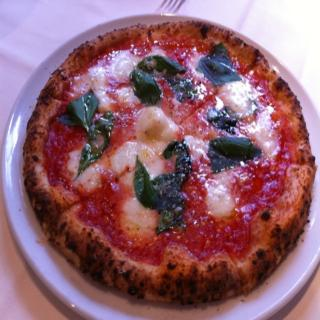Pizza: (21, 8, 316, 310)
